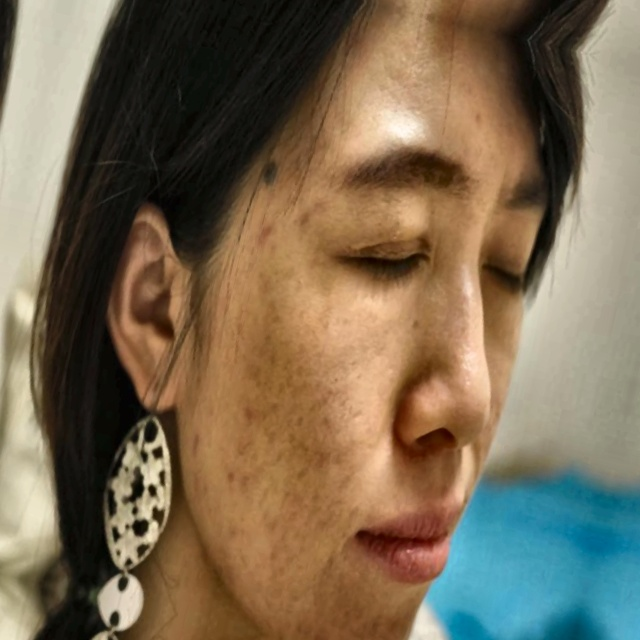comedone: (252, 213, 286, 260), (181, 432, 207, 460)
